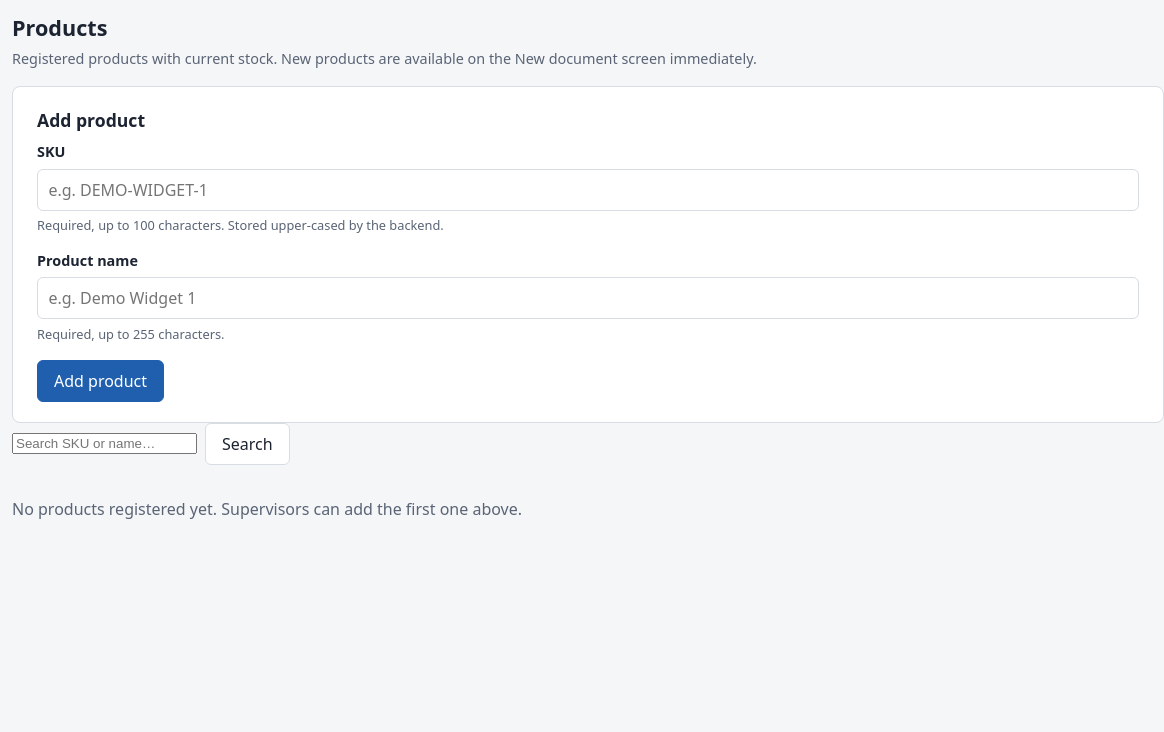
business screens › lets a supervisor create a product and refreshes the list
This screenshot has width=1164, height=732.
Check: the text "No products registered yet" is shown, box [12,498,522,520]
Step 1. Type "  WIDGET-2 " into the field labelled "SKU" → (588, 190), box [37,169,1139,211]
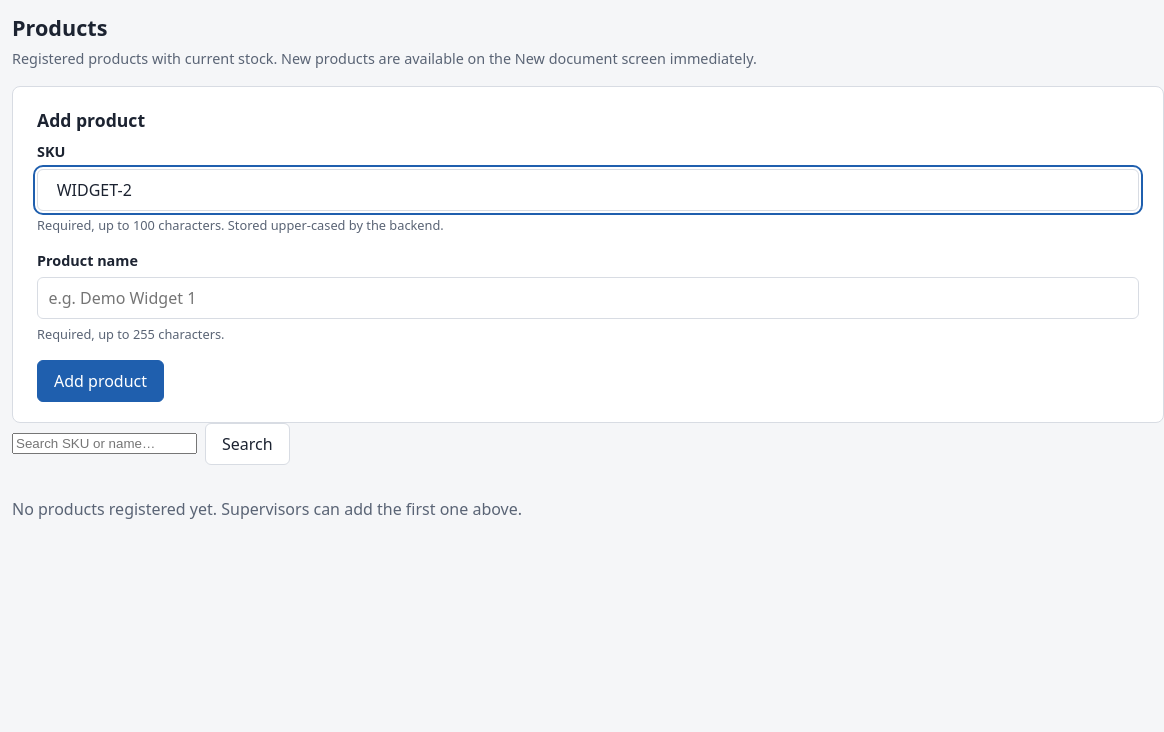
Step 2. Type "Widget Two" into the field labelled "Product name" → (588, 298), box [37,277,1139,319]
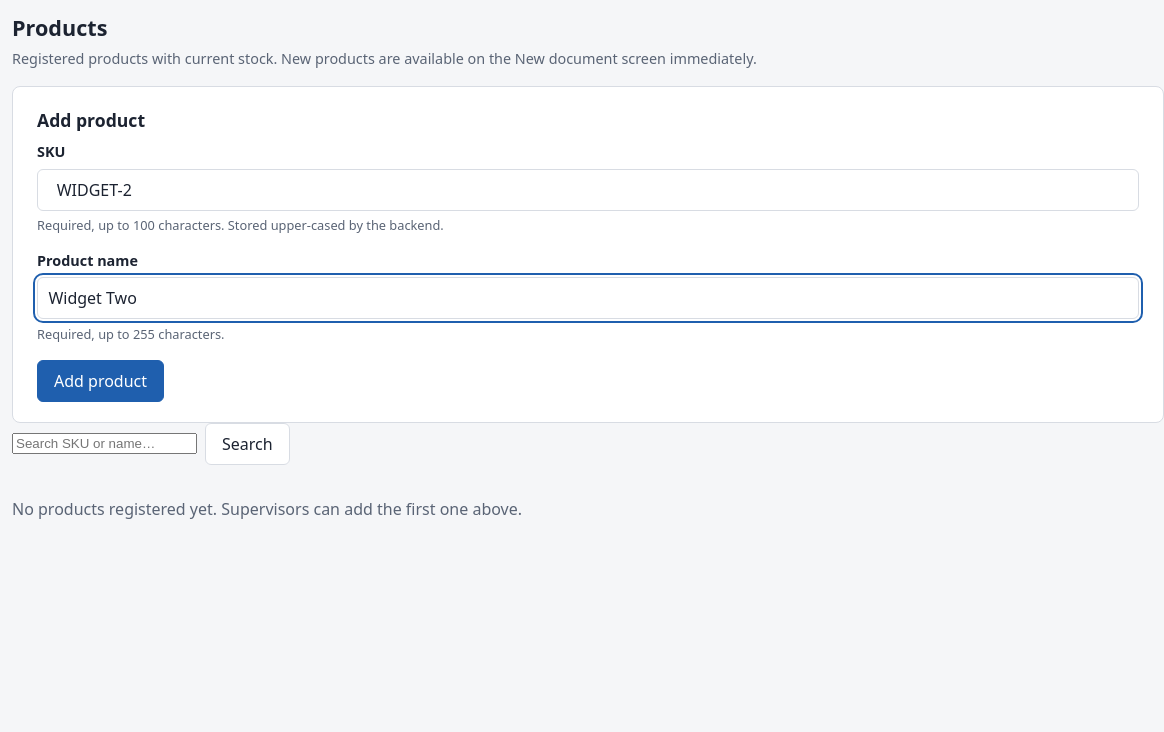
Step 3. Click the button "Add product" → click(101, 381), box [37,360,164,402]
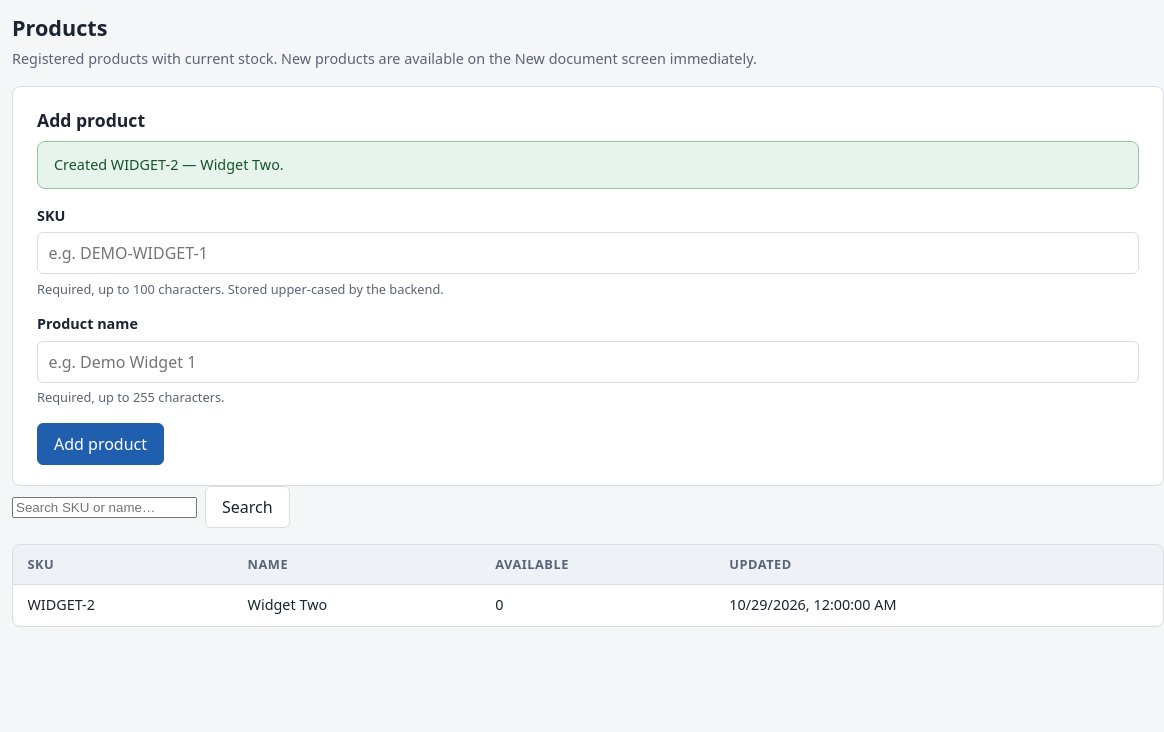
Check: the text "Created WIDGET-2 — Widget Two." is shown, box [37,141,1139,189]
Check: the text "WIDGET-2" is shown, box [13,585,233,626]
